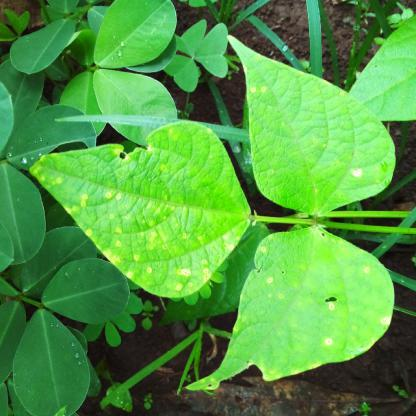Beans_Rust: (24, 119, 242, 297), (181, 228, 399, 392), (228, 34, 392, 208)
